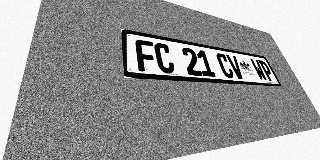1: (195, 49, 216, 77)
2: (181, 47, 203, 76)
C: (153, 42, 176, 74), (215, 53, 235, 78)
F: (135, 39, 158, 73)
P: (258, 60, 276, 82)
V: (226, 54, 246, 79)
W: (250, 59, 268, 81)
